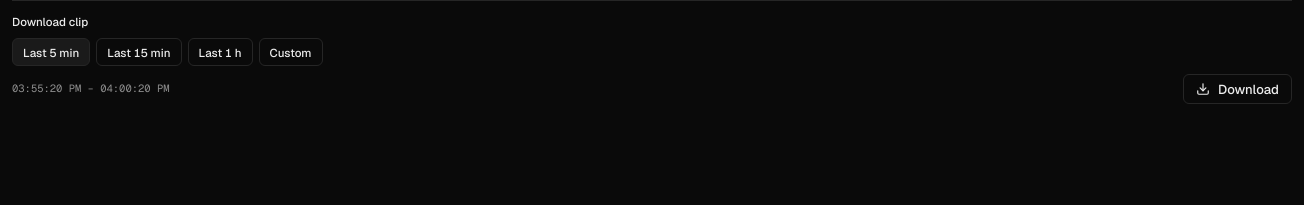
a custom range › won't download without a start time
Click the button "Custom" at (291, 52), box [259,38,322,66]
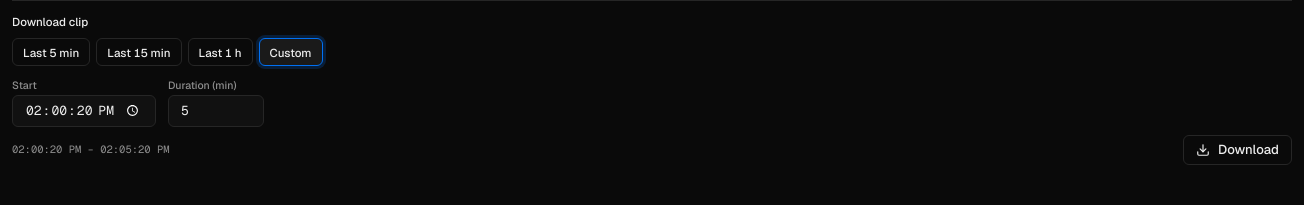
Clear the time field labelled "Start" at (84, 110), box [12,94,156,126]
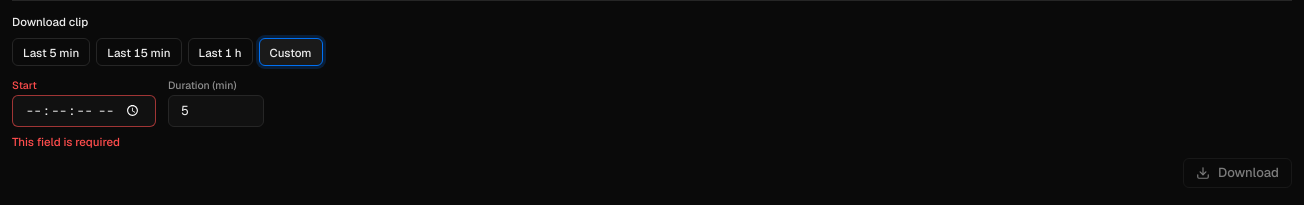
Result: the text "This field is required" is shown at [12,134,120,148]
Result: the button "Download" is disabled at [1183,158,1292,188]
